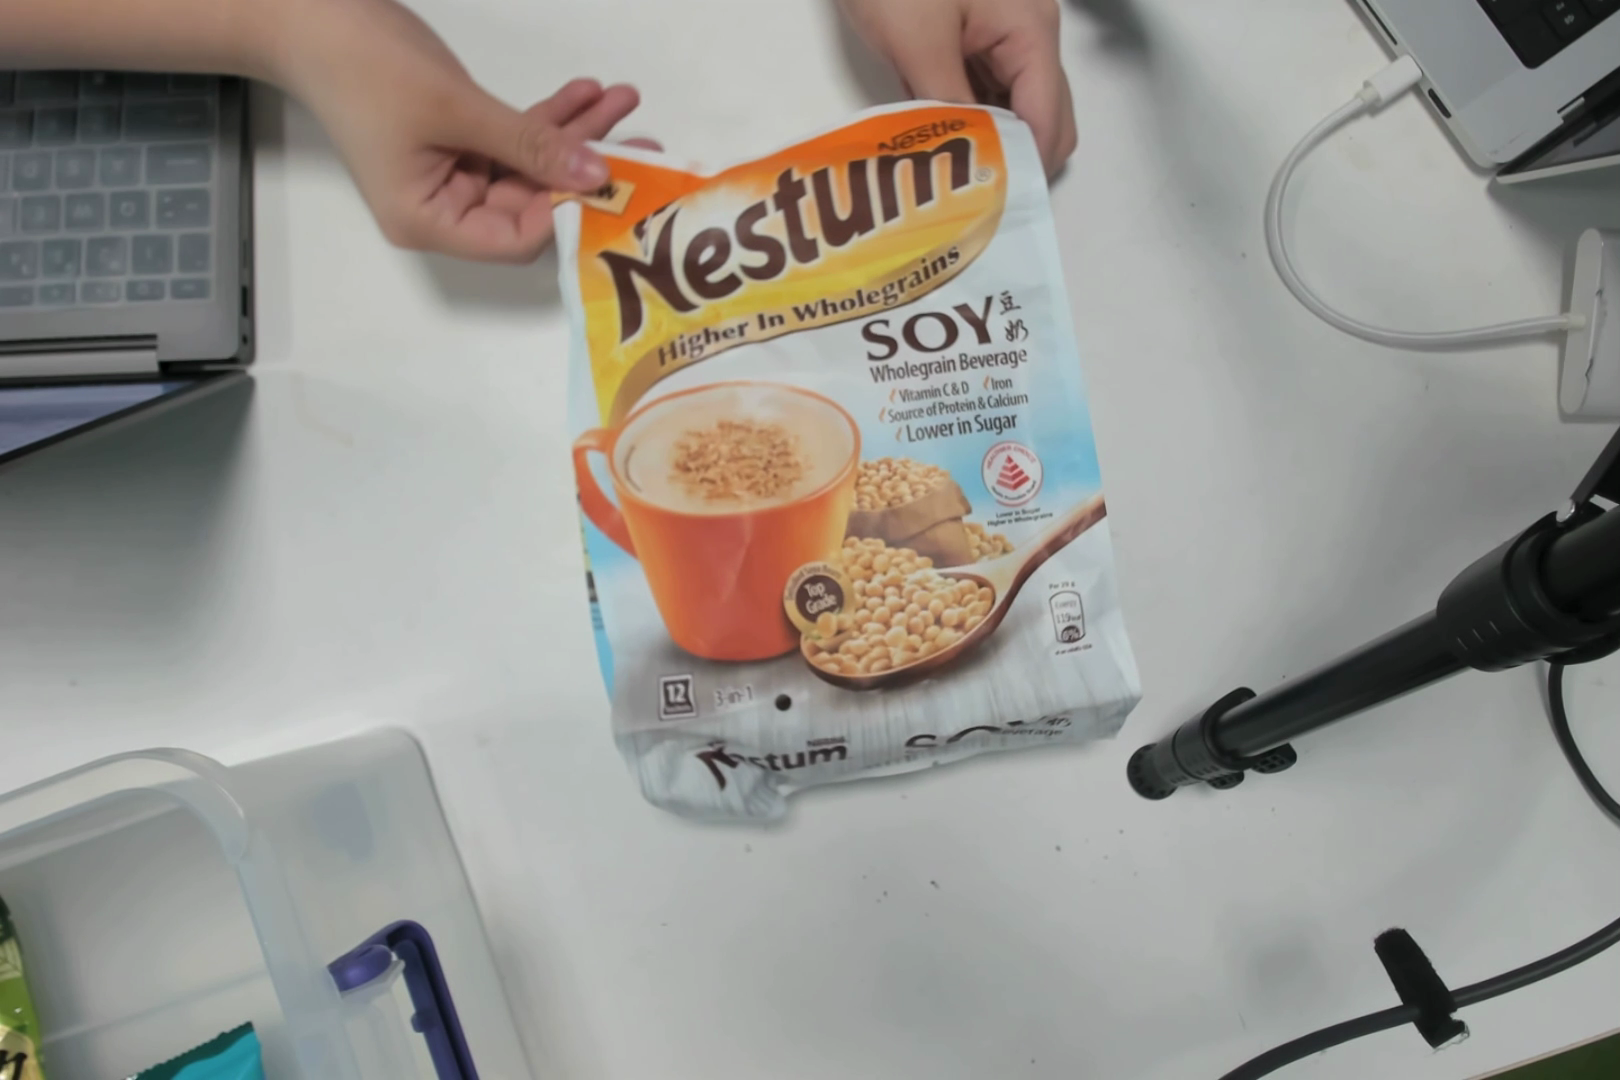e: (610, 123, 1087, 793)
